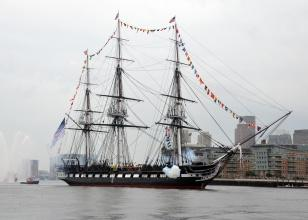fanchuan: (53, 9, 289, 186)
